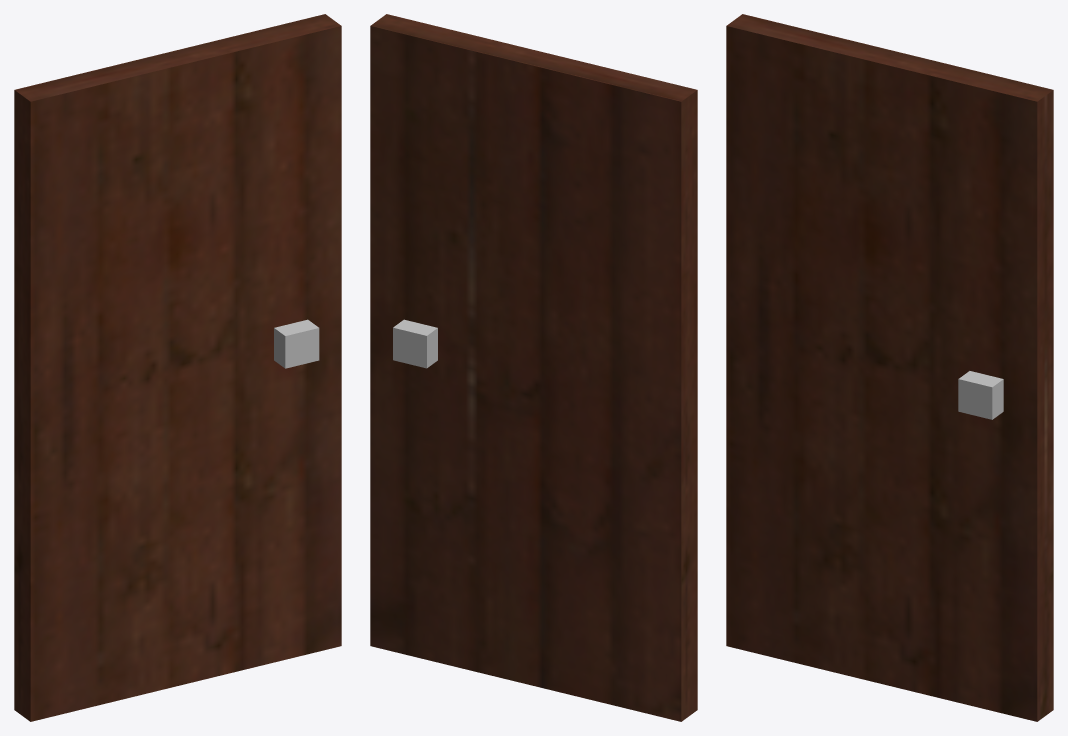
The model's file is door1.fbx.
3 views of the same model, side by side, from view 1: azimuth 30°, elevation 25°; view 2: azimuth 150°, elevation 25°; view 3: azimuth 330°, elevation 25° (orthographic).
Parts seen in each view (by area): view 1: door, door knob; view 2: door, door knob; view 3: door, door knob.
Boxes of the visible parts, left/top/right/bottom form: door: left=14, top=14, right=341, bottom=721; door knob: left=274, top=319, right=319, bottom=368; door: left=370, top=14, right=697, bottom=721; door knob: left=393, top=319, right=437, bottom=368; door: left=726, top=14, right=1053, bottom=721; door knob: left=958, top=371, right=1003, bottom=419.
Size of the model in its own units: 151 by 288 by 32.55.
